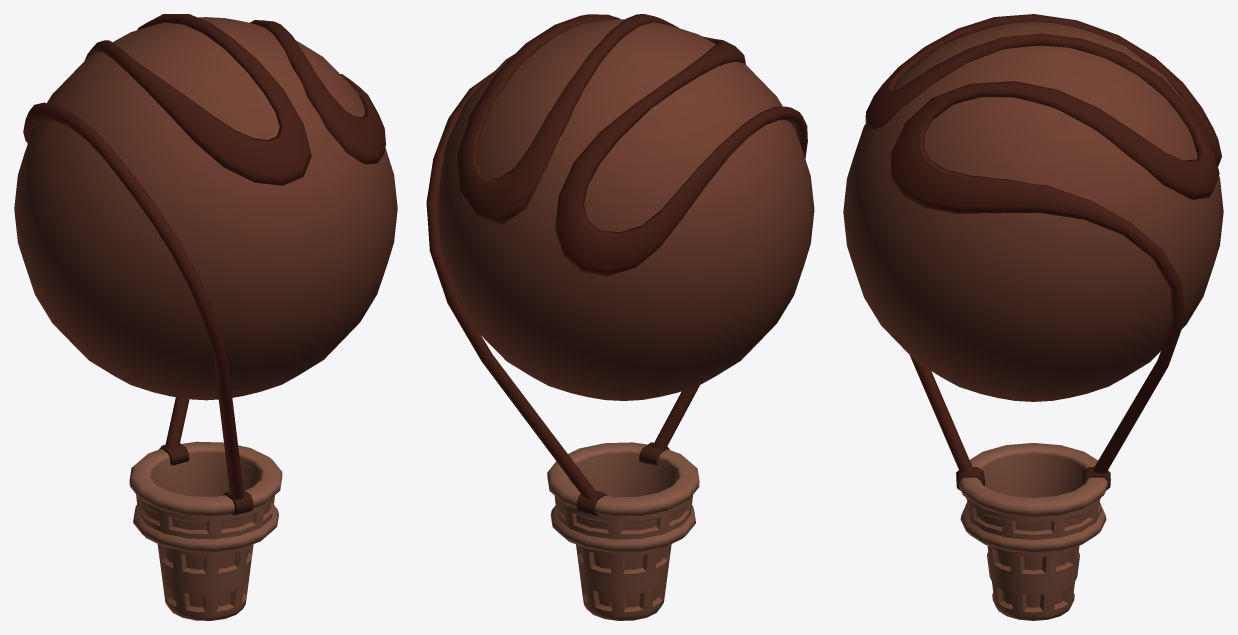
Rendered from AirBalloon_01.glb.
3 views of the same model, side by side, from view 1: azimuth 30°, elevation 25°; view 2: azimuth 150°, elevation 25°; view 3: azimuth 270°, elevation 25° (orthographic).
Parts seen in each view (by area): view 1: AirBalloon_01; view 2: AirBalloon_01; view 3: AirBalloon_01.
Boxes of the visible parts, <box> form: AirBalloon_01: <box>14,14,397,620</box>; AirBalloon_01: <box>426,14,814,620</box>; AirBalloon_01: <box>843,14,1223,620</box>.
Bounding box in the file's own units: 8.96 × 14.96 × 8.96.
2 materials, 2 textured.
